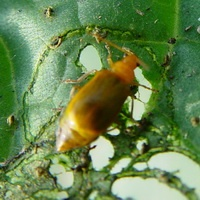insect: (56, 54, 139, 150)
